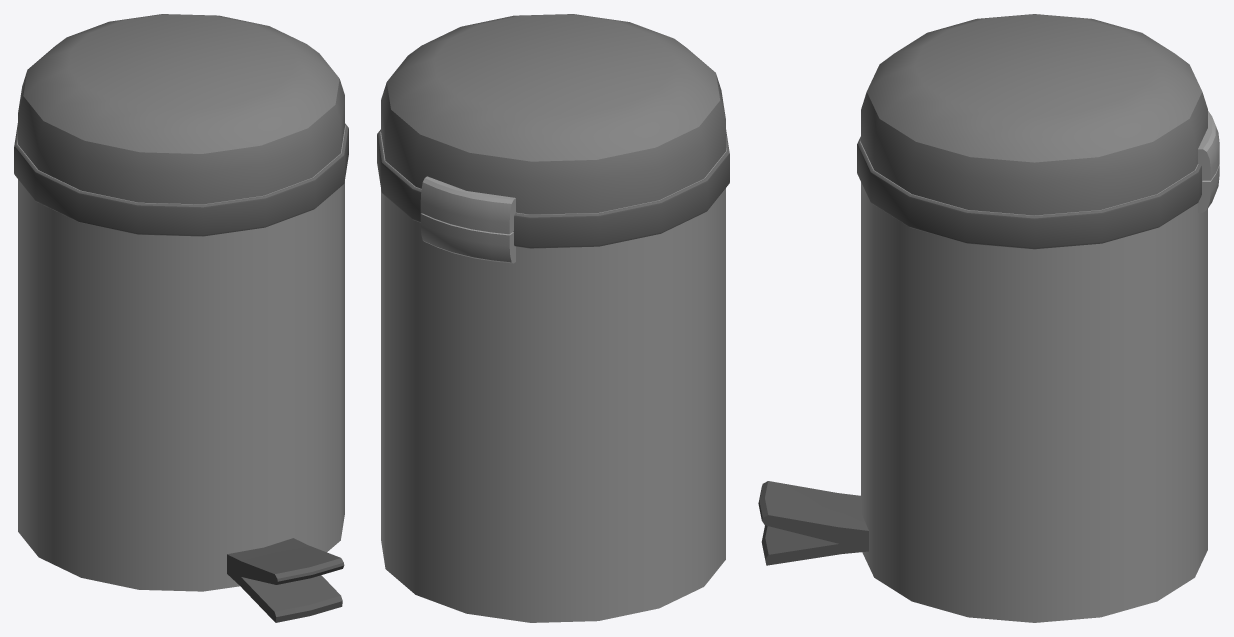
File: Prop_TrashCan_02.fbx
The picture shows the model from 3 angles, left to right: view 1: azimuth 30°, elevation 25°; view 2: azimuth 150°, elevation 25°; view 3: azimuth 270°, elevation 25°; orthographic projection. The views are drawn at different scales.
Parts seen in each view (by area): view 1: Prop_TrashCan_02; view 2: Prop_TrashCan_02; view 3: Prop_TrashCan_02.
Part boxes in pixels (x1=…): Prop_TrashCan_02: x1=14, y1=14, x2=348, y2=622; Prop_TrashCan_02: x1=377, y1=14, x2=729, y2=622; Prop_TrashCan_02: x1=758, y1=14, x2=1219, y2=622.
Bounding box in the file's own units: 32.47 × 48.83 × 42.13.
